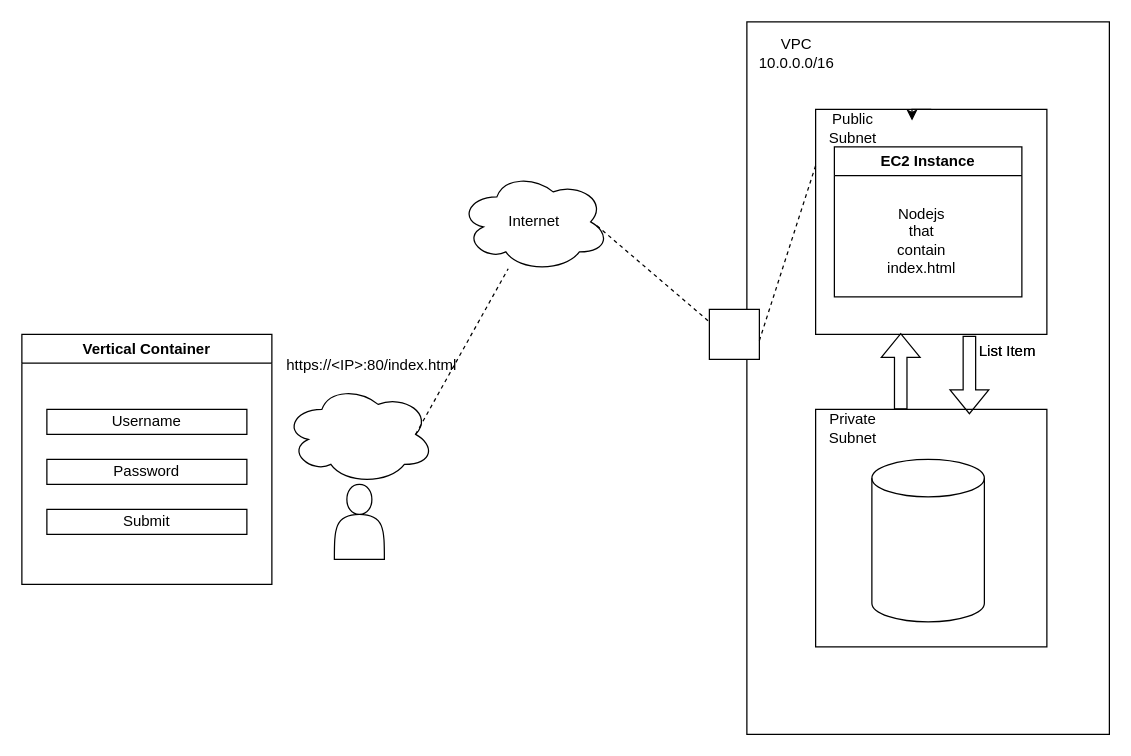
The diagram is 1131 pixels wide and 756 high, and some of its shapes have lost their labels. The centre of each missing label's shape, as x and y in pixels:
Client: (358,433)
IGW: (733,333)
RDS: (927,540)
